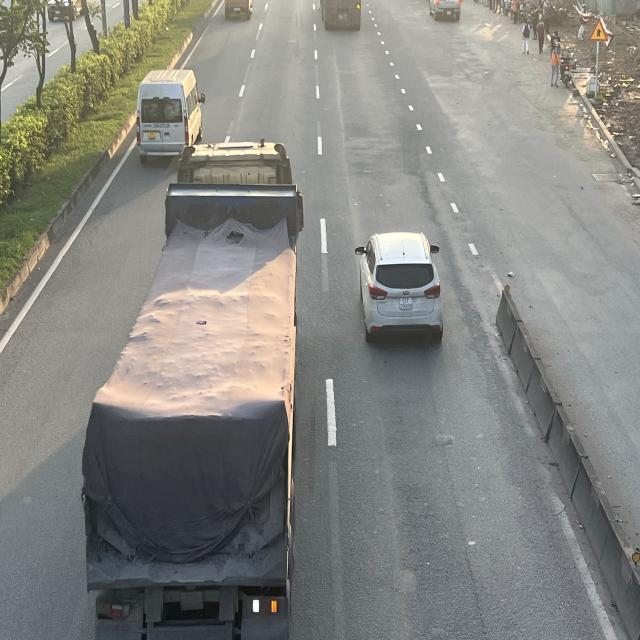car: (358, 232, 445, 344)
container: (79, 136, 305, 640)
van: (139, 70, 207, 166)
